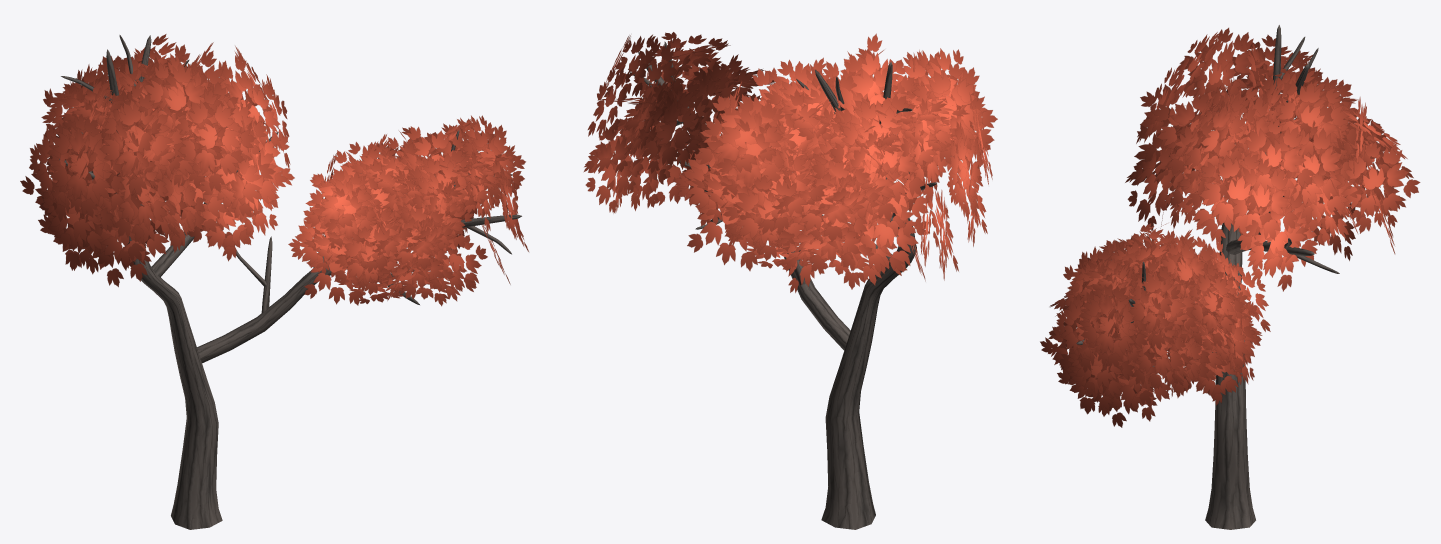
Rendered from tree_maple_1.glb.
3 views of the same model, side by side, from view 1: azimuth 30°, elevation 25°; view 2: azimuth 150°, elevation 25°; view 3: azimuth 270°, elevation 25° (orthographic). The views are drawn at different scales.
Visible parts, largest first — view 1: MapleTree_1; view 2: MapleTree_1; view 3: MapleTree_1.
Boxes of the visible parts, x1,y1,x2,y2 form: MapleTree_1: (20, 34, 528, 529); MapleTree_1: (584, 32, 997, 529); MapleTree_1: (1040, 25, 1420, 529).
Size of the model in its own units: 6.23 by 6.64 by 4.9.
Materials: 2 (2 with a texture image).
